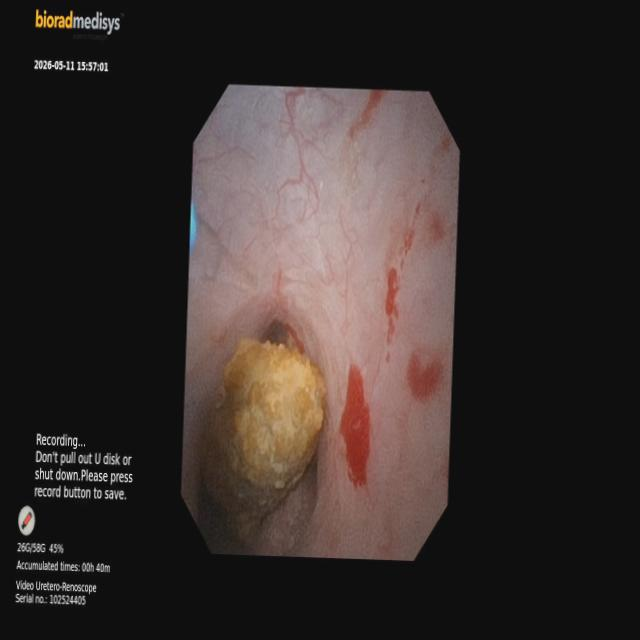laser-fibre: (189, 219, 257, 291)
stone-new: (208, 337, 326, 540)
